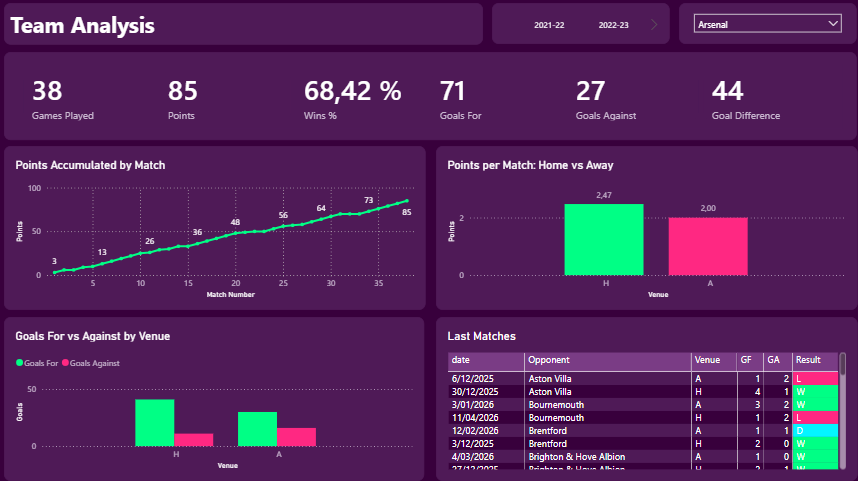

The dashboard page shown, as its layout file describes it:
{"tool":"powerbi","page":{"name":"Team Analysis","canvas":[1280,720],"ordinal":1},"visuals":[{"type":"textbox","box":[23.4,16.1,701,61],"z":0},{"type":"slicer","title":"Season","fields":{"Values":["Dim_Date.Season"]},"box":[737.4,16.8,260.4,60.5],"z":1000},{"type":"slicer","title":"Season","fields":{"Values":["teams.team"]},"box":[1011.2,16.8,260.4,60.5],"z":2000},{"type":"cardVisual","fields":{"Data":["League_Overview_Measures.Games Played","League_Overview_Measures.Points","League_Overview_Measures.Wins %","League_Overview_Measures.Goals For","League_Overview_Measures.Goals Against","League_Overview_Measures.Goal Difference"]},"box":[23.5,87.3,1248.1,129.3],"z":3000},{"type":"lineChart","title":"Points Accumulated by Match","fields":{"Y":["_Measures.Cumulative Points"],"Category":["TeamMatches.Match Number"]},"box":[23.3,225,616.7,240],"z":4000},{"type":"clusteredColumnChart","title":"Points per Match: Home vs Away","fields":{"Category":["TeamMatches.venue"],"Y":["_Measures.Points per Match"]},"box":[655,225,616.7,240],"z":5000},{"type":"clusteredColumnChart","title":"Goals For vs Against by Venue","fields":{"Category":["TeamMatches.venue"],"Y":["_Measures.Goals For","_Measures.Goals Against"]},"box":[23.3,475,615,240],"z":6000},{"type":"tableEx","title":"Last Matches","fields":{"Values":["TeamMatches.date","TeamMatches.Opponent","TeamMatches.venue","TeamMatches.gf","TeamMatches.ga","TeamMatches.Result"]},"box":[655,475,616.7,240],"z":7000}]}

Visuals, with their boxes in screenshot pixels (x1, y1, x2, y2), scaled from the page's 1280x720 canvas onto the 858x481 screenshot:
textbox: bbox=(16, 11, 486, 52)
"Season" slicer: bbox=(494, 11, 669, 52)
"Season" slicer: bbox=(678, 11, 852, 52)
cardVisual - League_Overview_Measures.Games Played x League_Overview_Measures.Points: bbox=(16, 58, 852, 145)
"Points Accumulated by Match" lineChart: bbox=(16, 150, 429, 311)
"Points per Match: Home vs Away" clusteredColumnChart: bbox=(439, 150, 852, 311)
"Goals For vs Against by Venue" clusteredColumnChart: bbox=(16, 317, 428, 478)
"Last Matches" tableEx: bbox=(439, 317, 852, 478)
